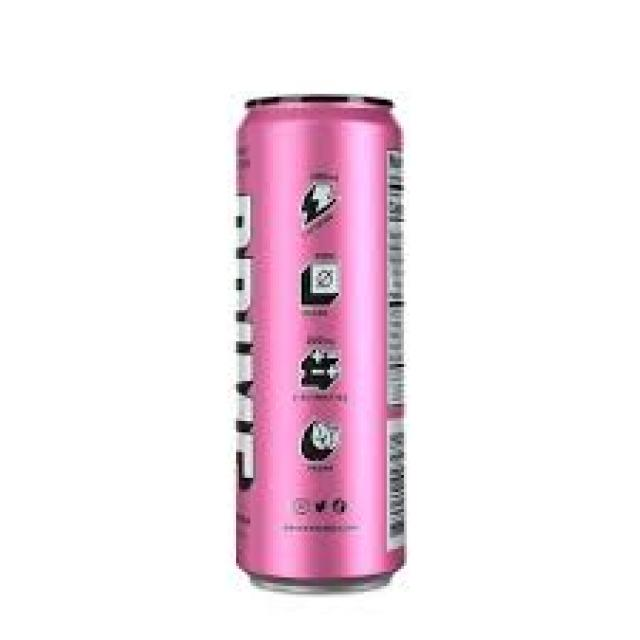Cans: (231, 85, 418, 598)
